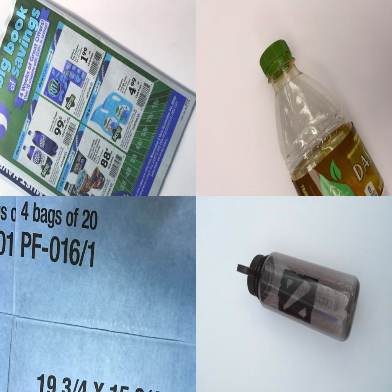cardboard: (1, 197, 196, 391)
paper: (1, 1, 196, 196)
plastic: (260, 39, 390, 196), (236, 251, 360, 341)
